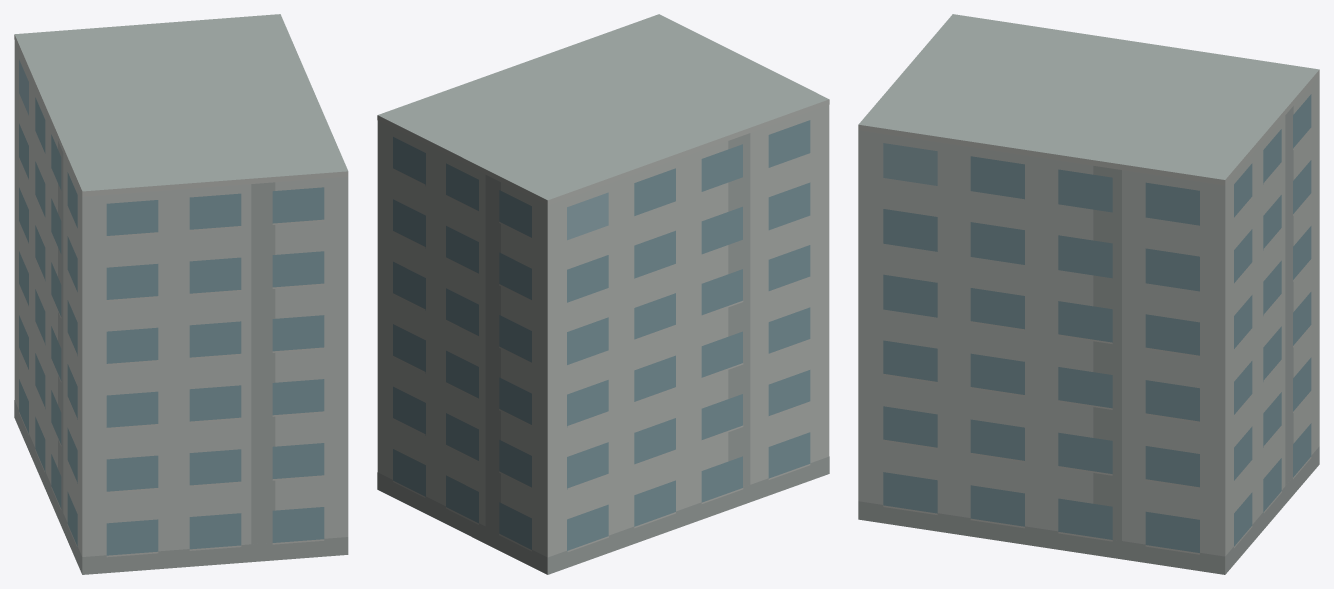
File: survey-upis-32888975.glb
3 renders of one model, left to right at view 1: azimuth 30°, elevation 25°; view 2: azimuth 150°, elevation 25°; view 3: azimuth 270°, elevation 25°, orthographic. The views are drawn at different scales.
Parts seen in each view (by area): view 1: survey-upis-32888975.tmp; view 2: survey-upis-32888975.tmp; view 3: survey-upis-32888975.tmp.
Boxes of the visible parts, left/top/right/bottom form: survey-upis-32888975.tmp: left=14, top=14, right=348, bottom=574; survey-upis-32888975.tmp: left=377, top=14, right=829, bottom=574; survey-upis-32888975.tmp: left=858, top=14, right=1319, bottom=574.
Bounding box in the file's own units: 15.43 × 17.1 × 18.12.
